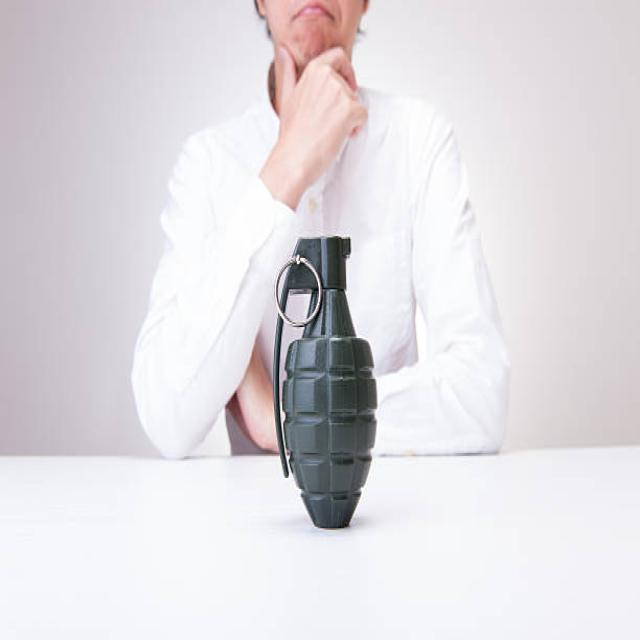grenade: (269, 221, 389, 536)
